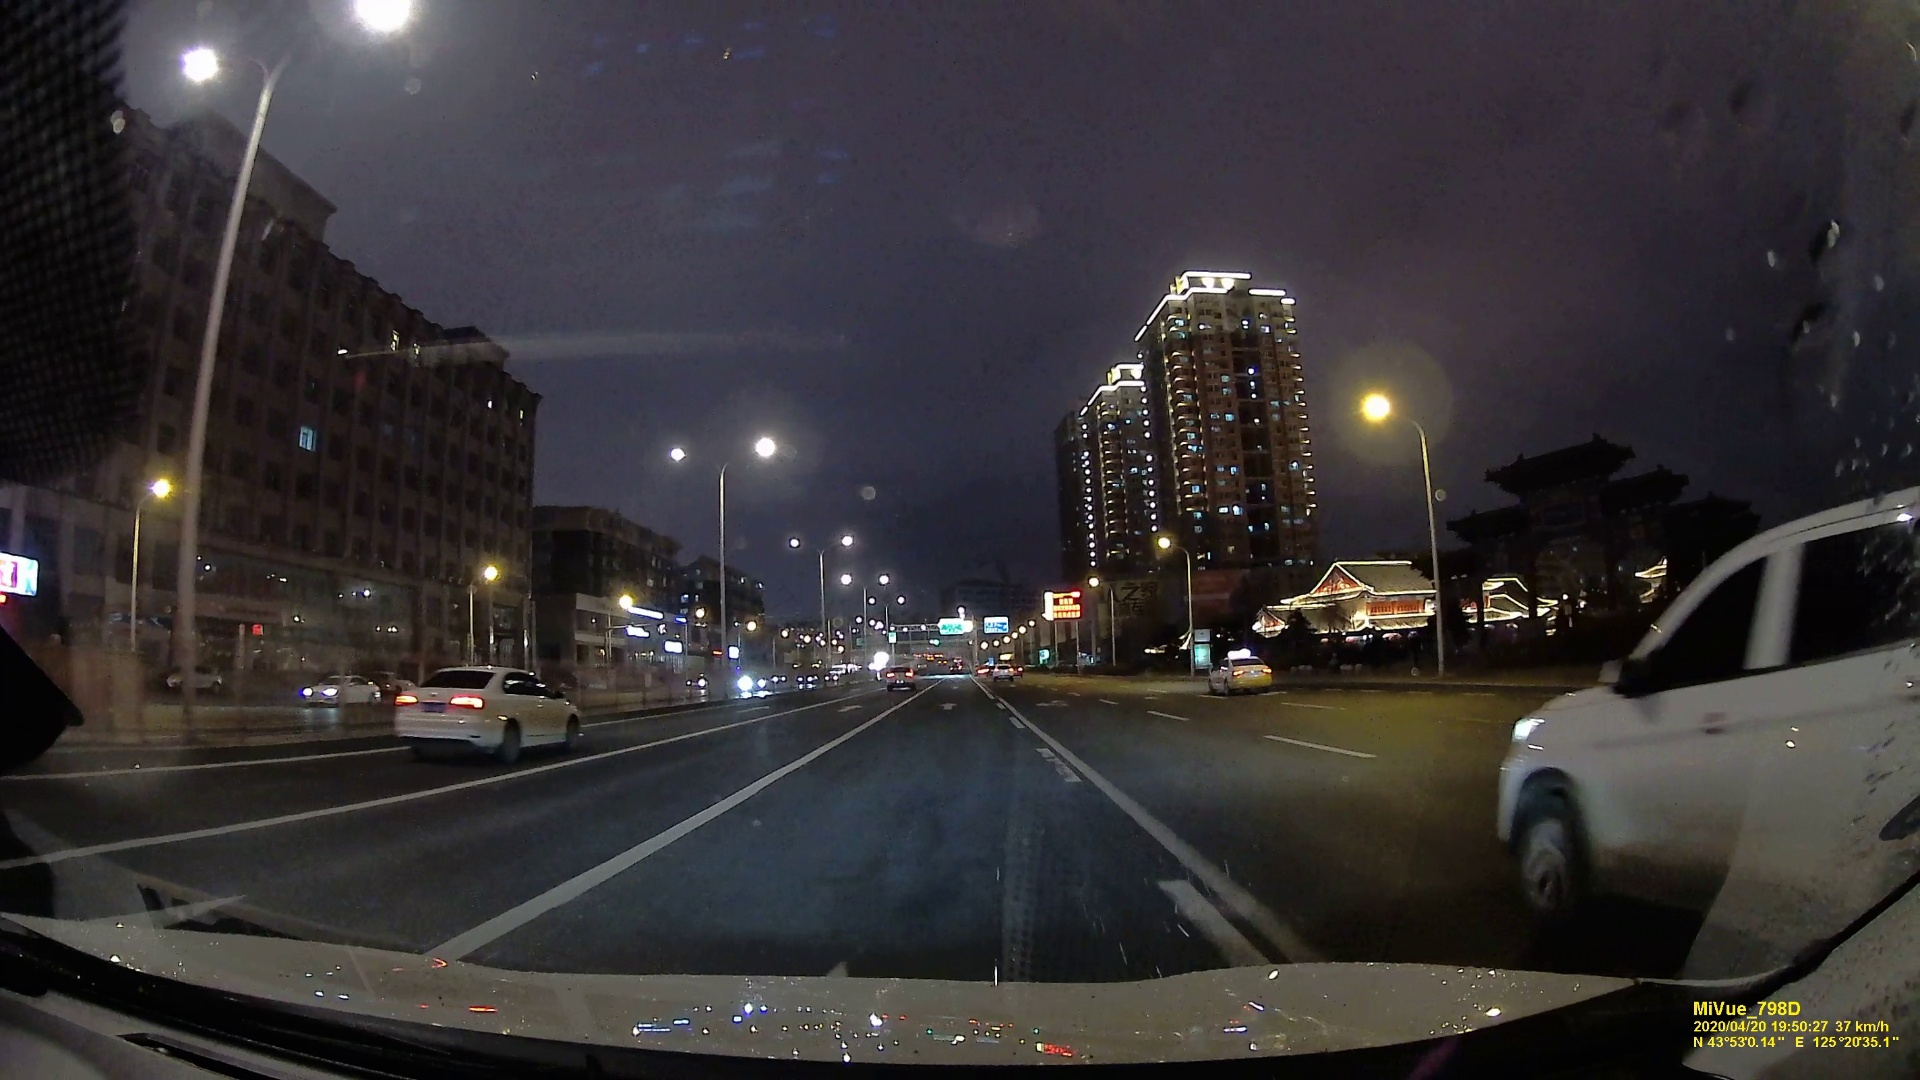traffic_sign: (1, 551, 40, 599), (939, 617, 964, 634), (984, 616, 1007, 633)
vehicle: (1491, 496, 1915, 922), (392, 661, 583, 764), (295, 673, 378, 709), (1208, 653, 1273, 692), (884, 667, 911, 690), (992, 665, 1011, 680)
